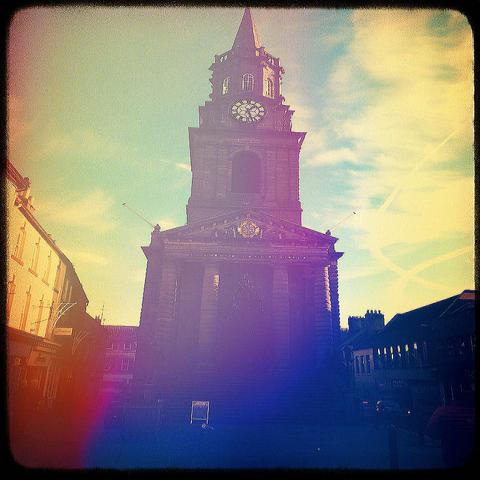car: (360, 401, 404, 420)
